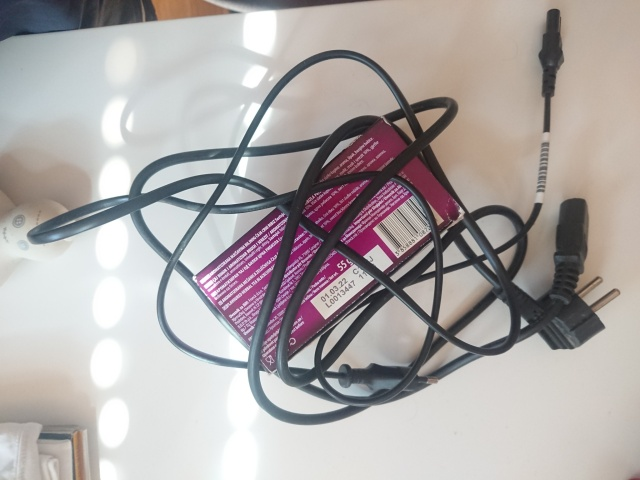Franck Black Currant Tea 60g: (189, 112, 468, 377)
